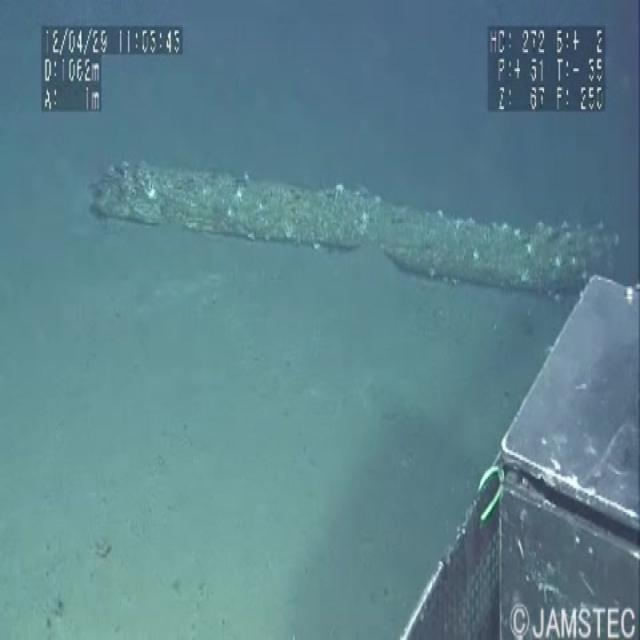Wood: (89, 142, 629, 316)
